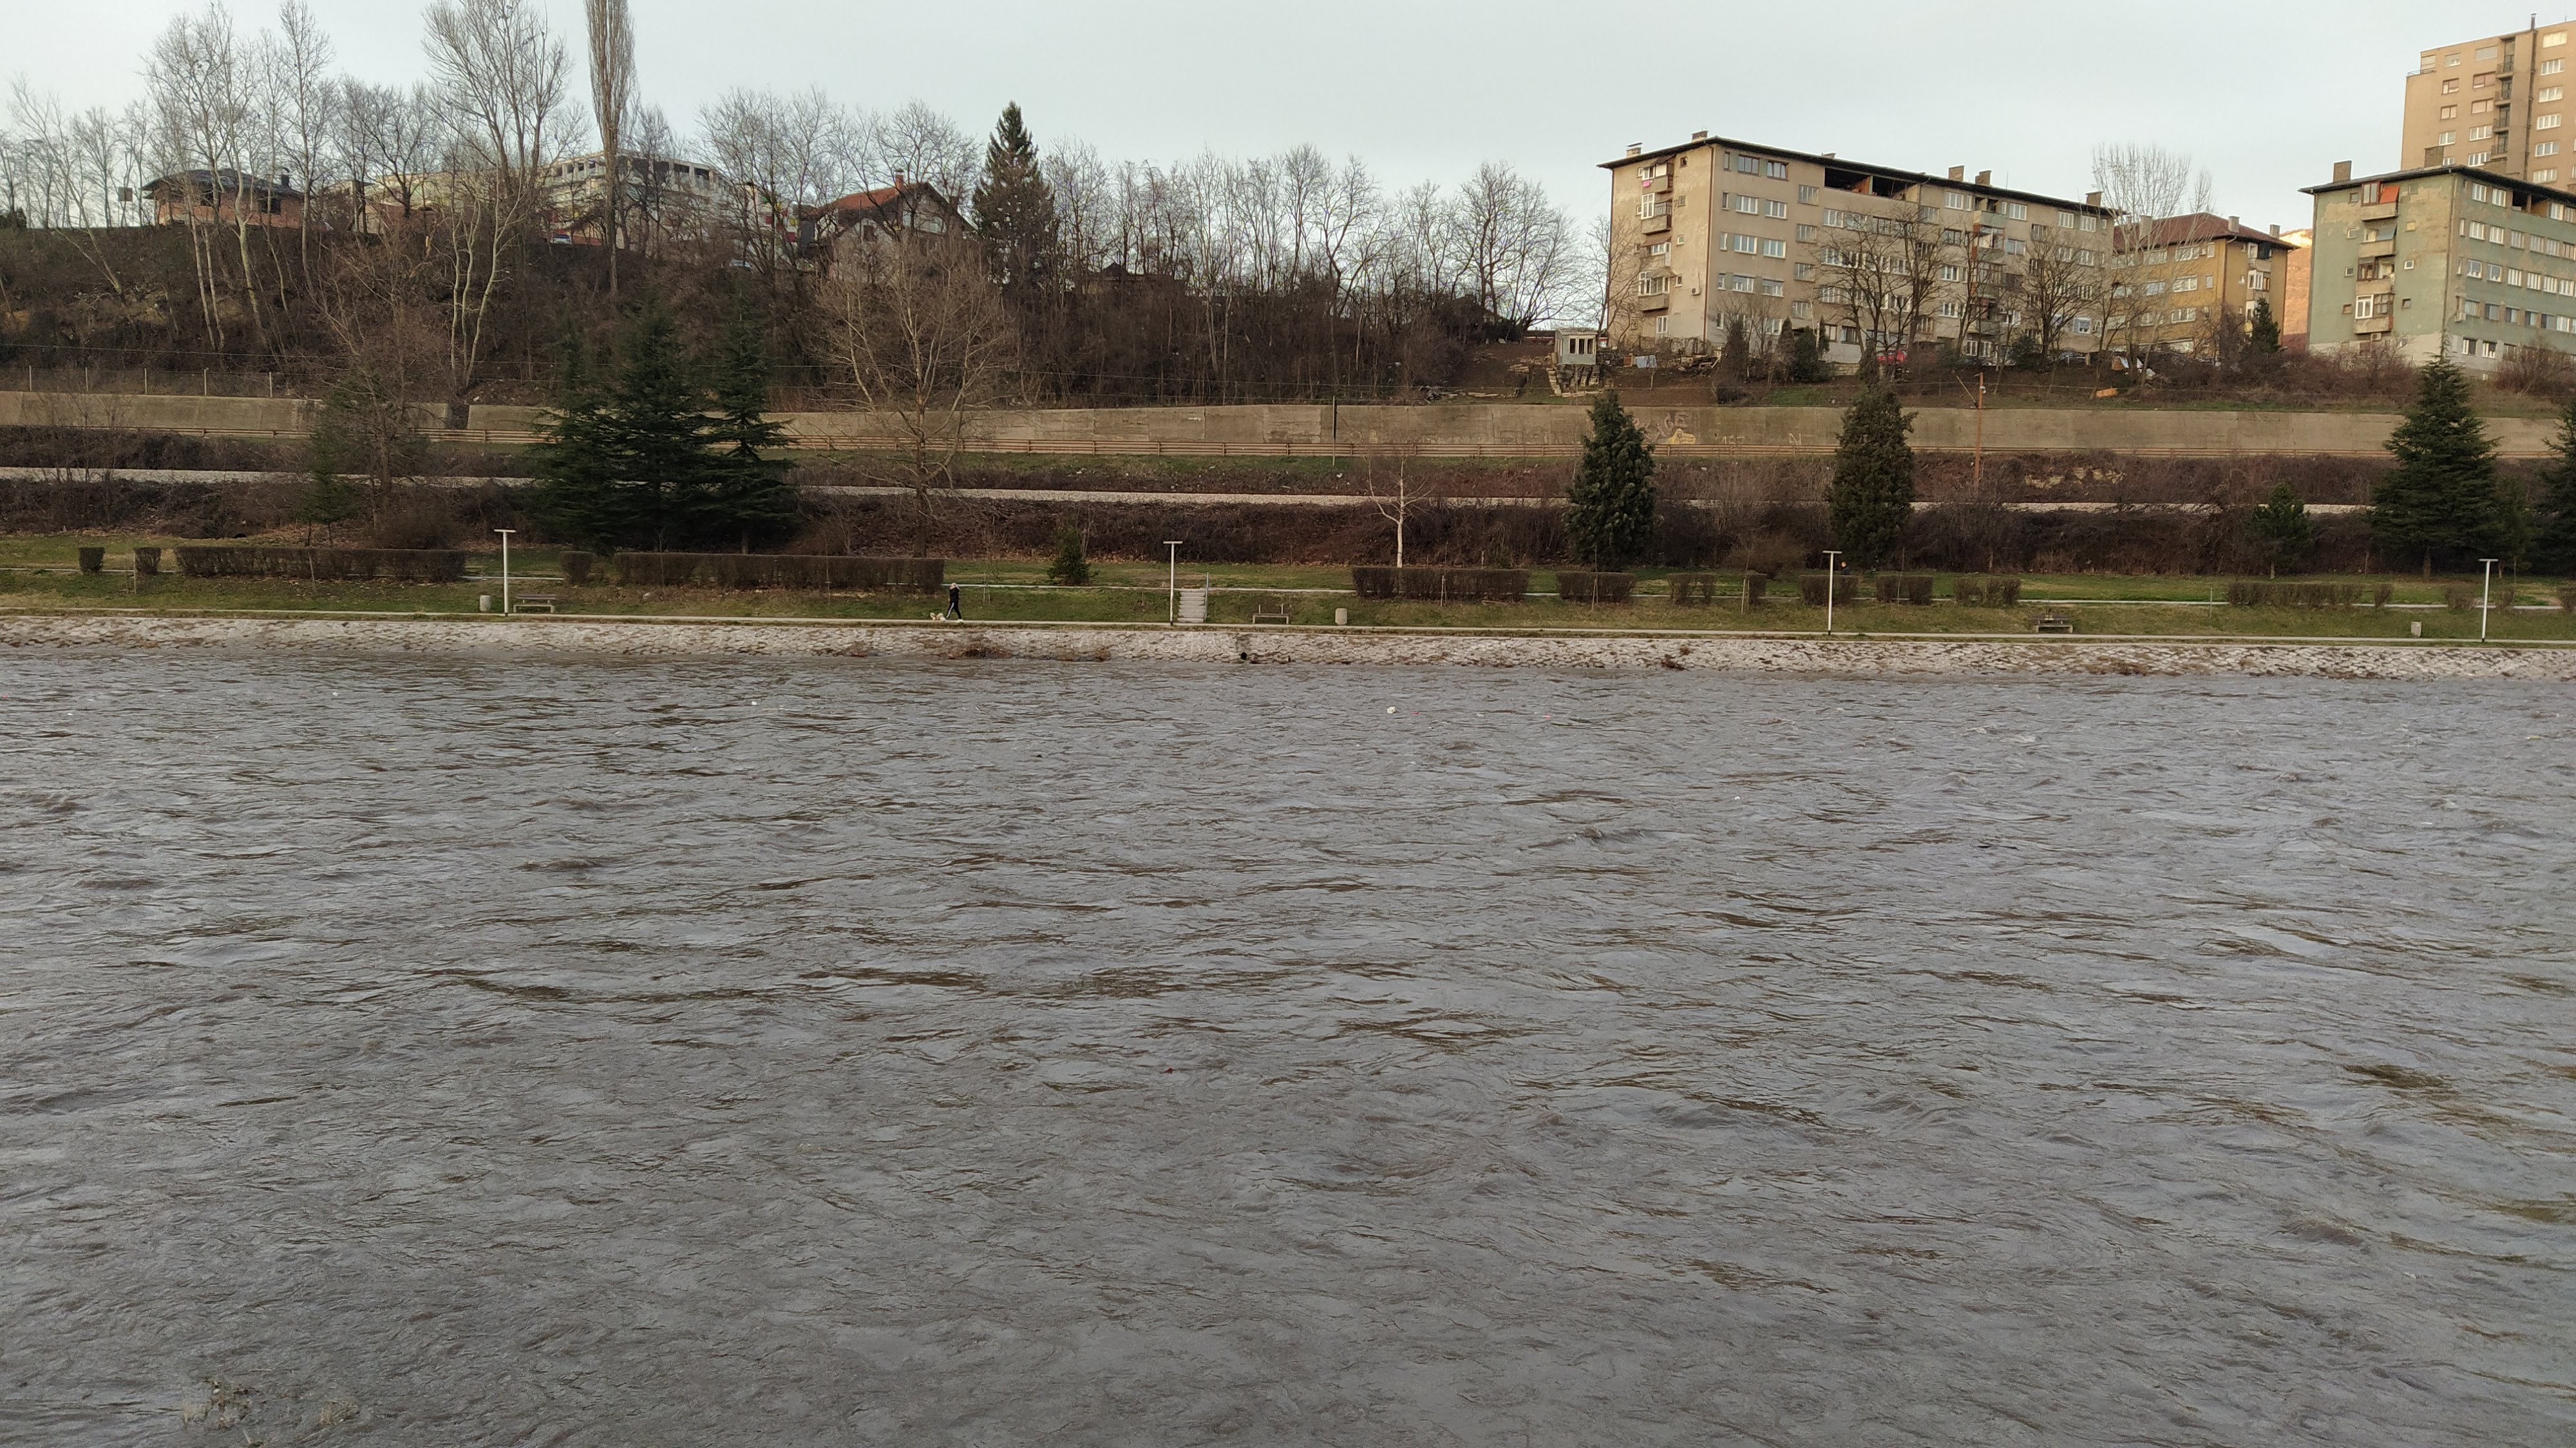Plastic Bottle: (1408, 710, 1419, 715), (1030, 752, 1040, 758), (1477, 713, 1484, 719), (1541, 715, 1548, 719), (750, 701, 757, 705), (333, 692, 338, 696)
